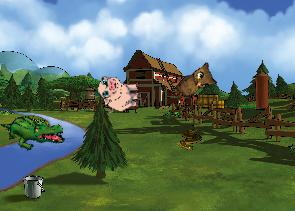crocodile: (0, 107, 66, 156)
owl: (170, 58, 222, 111)
pig: (98, 73, 141, 113)
